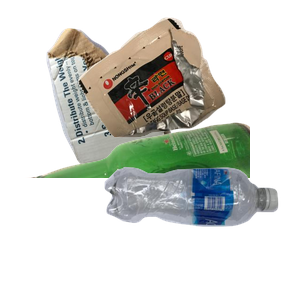cardboard: (44, 26, 209, 186)
glass: (23, 120, 263, 300)
plastic: (102, 165, 300, 300)
trash: (76, 15, 300, 145)
